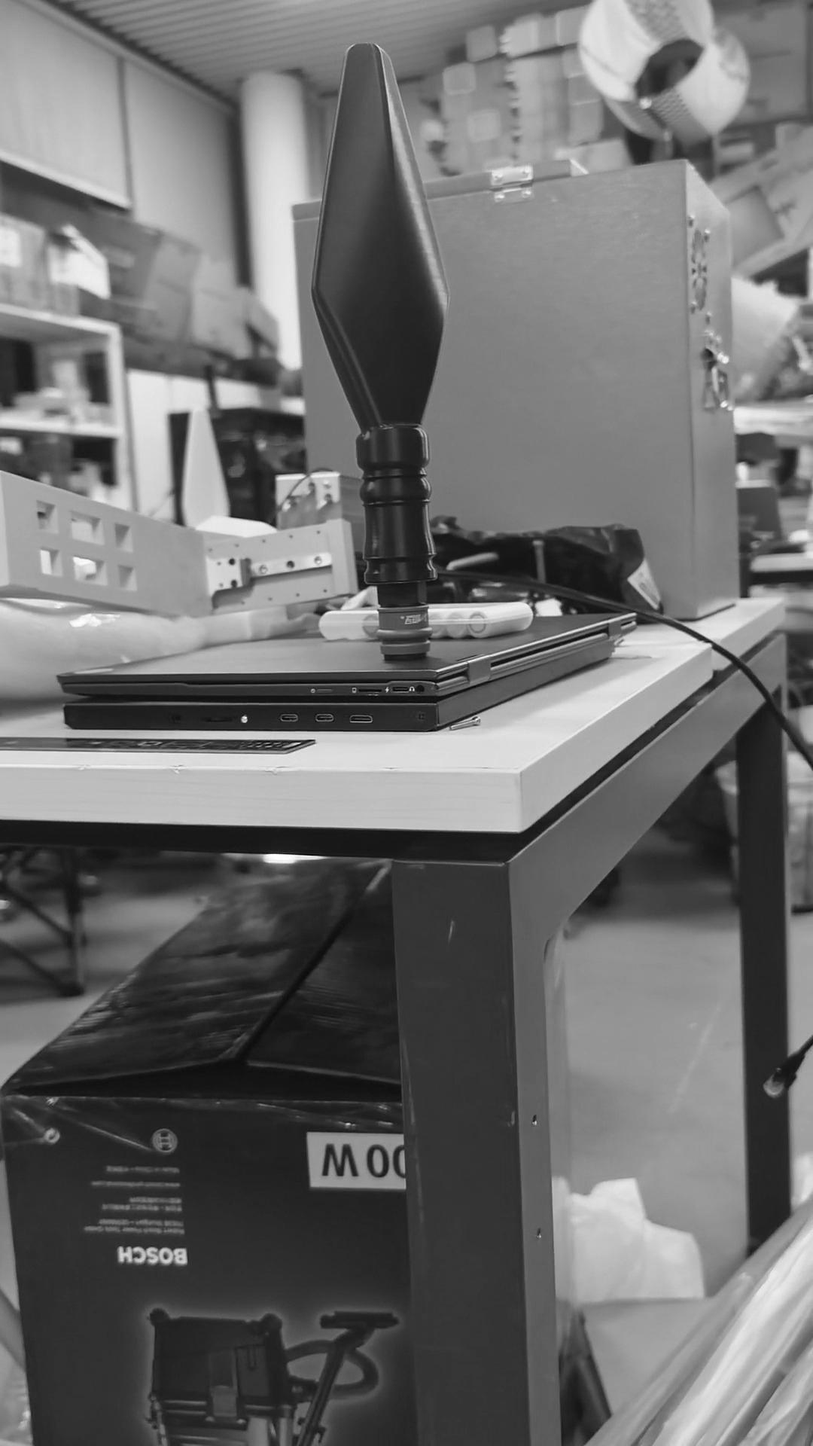base: (376, 600, 433, 671)
